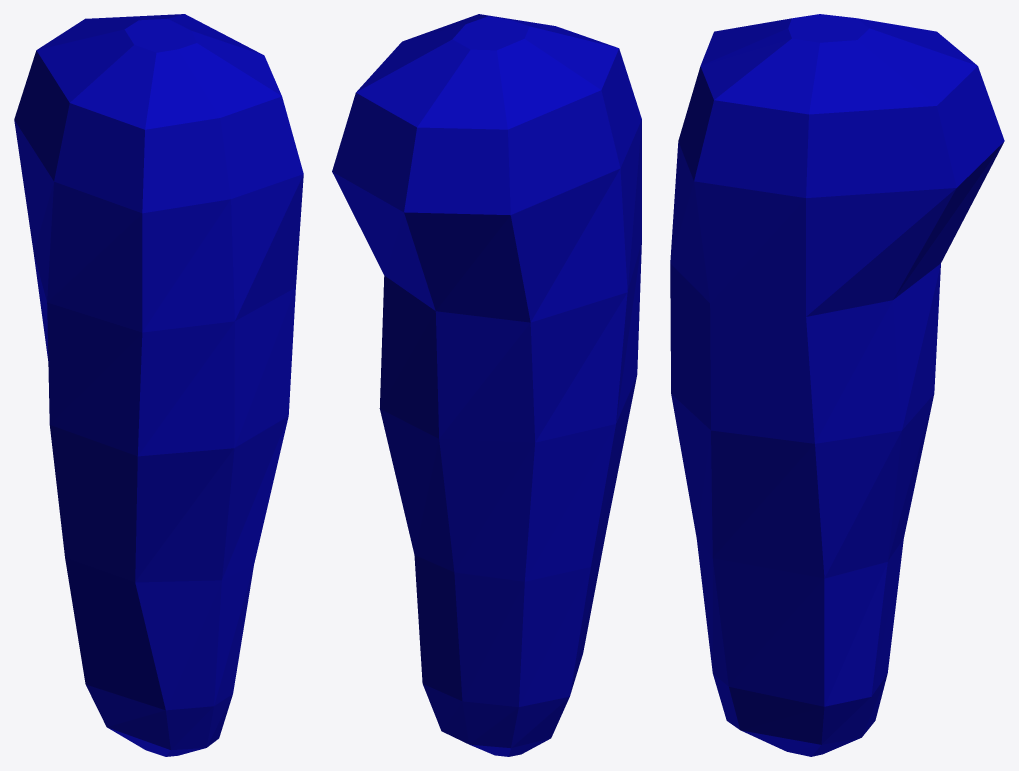
Rendered from RThigh_mesh.dae.
3 views of the same model, side by side, from view 1: azimuth 30°, elevation 25°; view 2: azimuth 150°, elevation 25°; view 3: azimuth 270°, elevation 25° (orthographic). The views are drawn at different scales.
Visible parts, largest first — view 1: RThigh; view 2: RThigh; view 3: RThigh.
Part boxes in pixels (box(x1,y1,x2,y2)): RThigh: box(14, 14, 303, 756); RThigh: box(332, 14, 641, 756); RThigh: box(670, 14, 1004, 756).
Bounding box in the file's own units: 0.1701 × 0.4855 × 0.2039.
